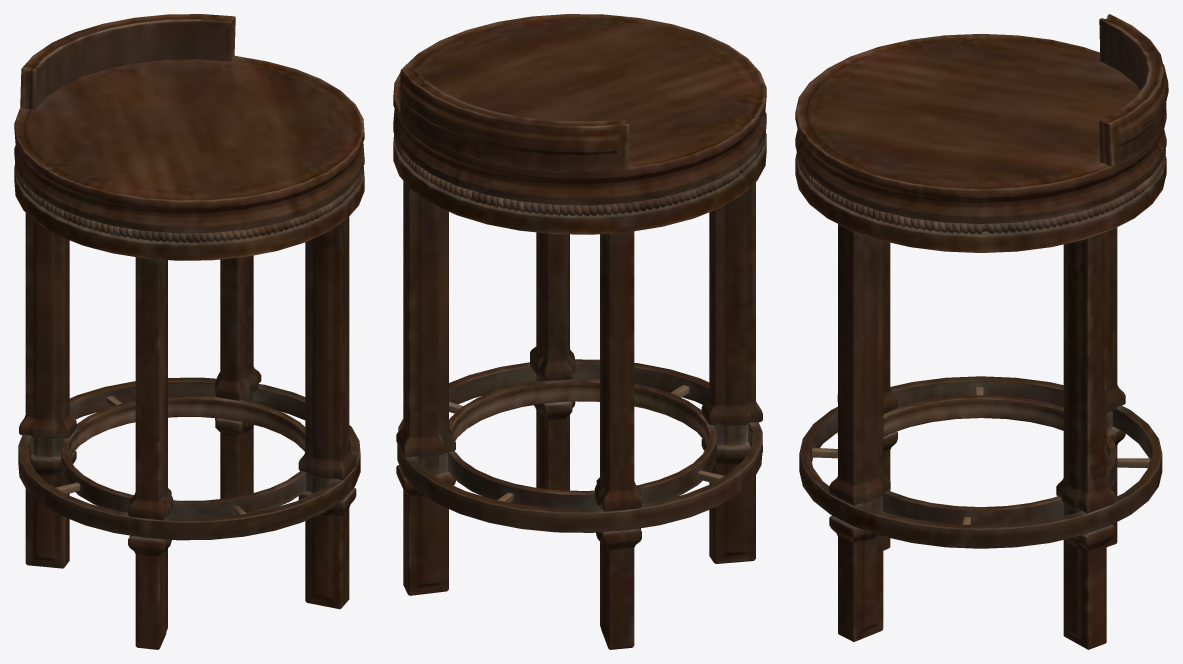
File: bar-chair-round.lite.91f04404.glb
3 renders of one model, left to right at view 1: azimuth 30°, elevation 25°; view 2: azimuth 150°, elevation 25°; view 3: azimuth 270°, elevation 25°, orthographic. The views are drawn at different scales.
Parts seen in each view (by area): view 1: model; view 2: model; view 3: model.
Boxes of the visible parts, x1,y1,x2,y2 form: model: [14, 14, 364, 649]; model: [393, 14, 766, 649]; model: [795, 14, 1168, 649].
Bounding box in the file's own units: 0.4832 × 0.7505 × 0.486.
Materials: 1 (1 with a texture image).
